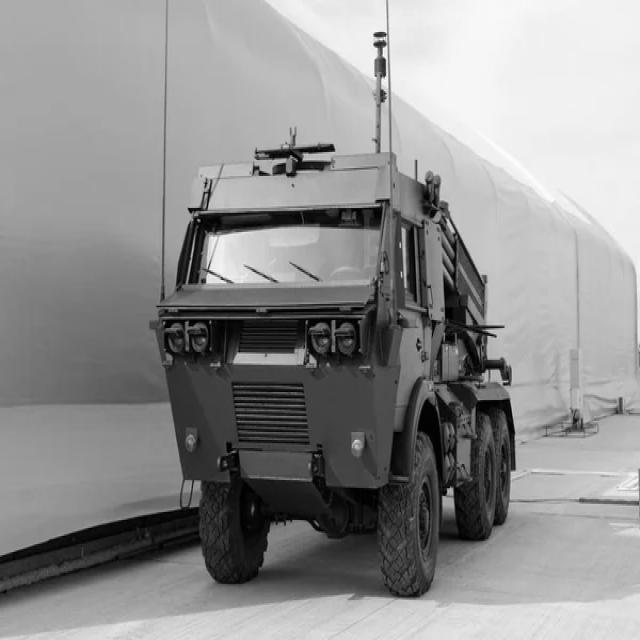Truck: (154, 88, 516, 597)
